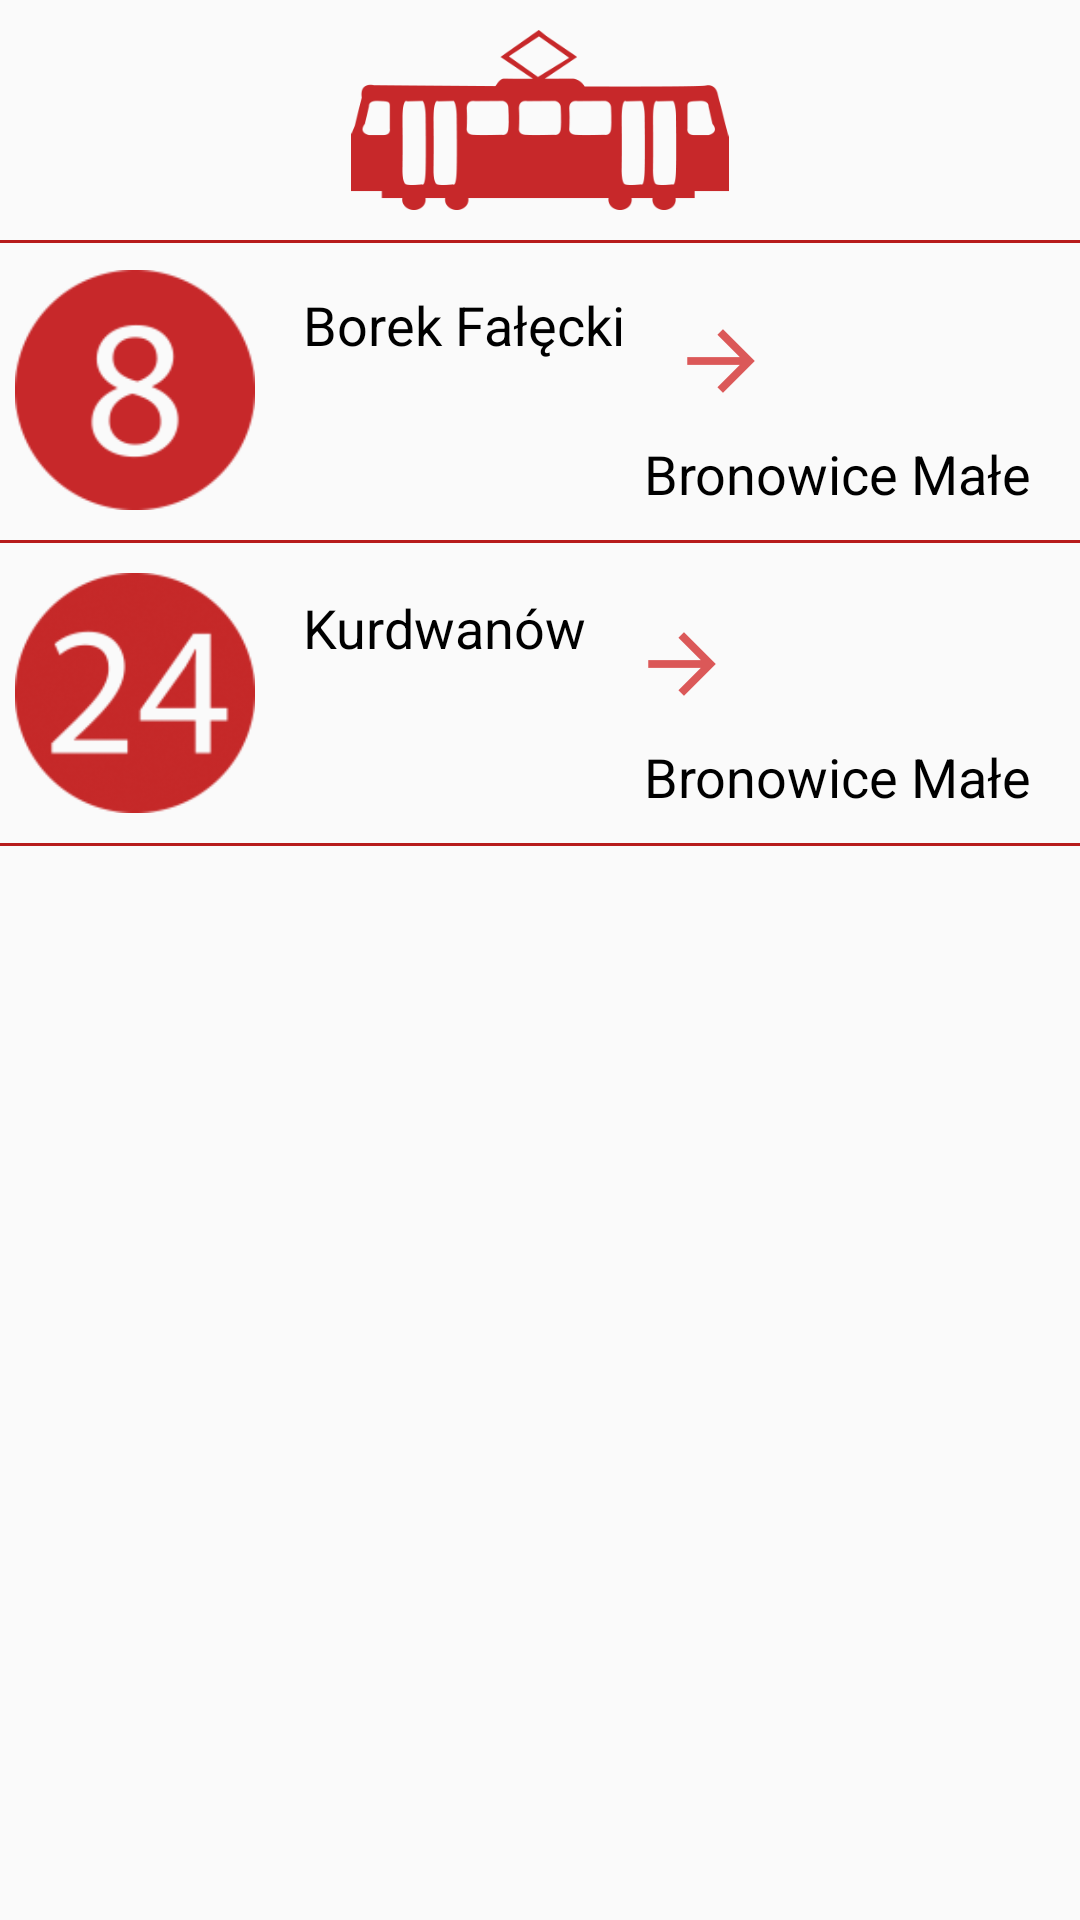

Where icons sit on this 1080w x 1920h app screen, as bbox=(x1, y1, x2, y2):
line arrow: bbox=(687, 329, 755, 393), bbox=(648, 632, 716, 696)
